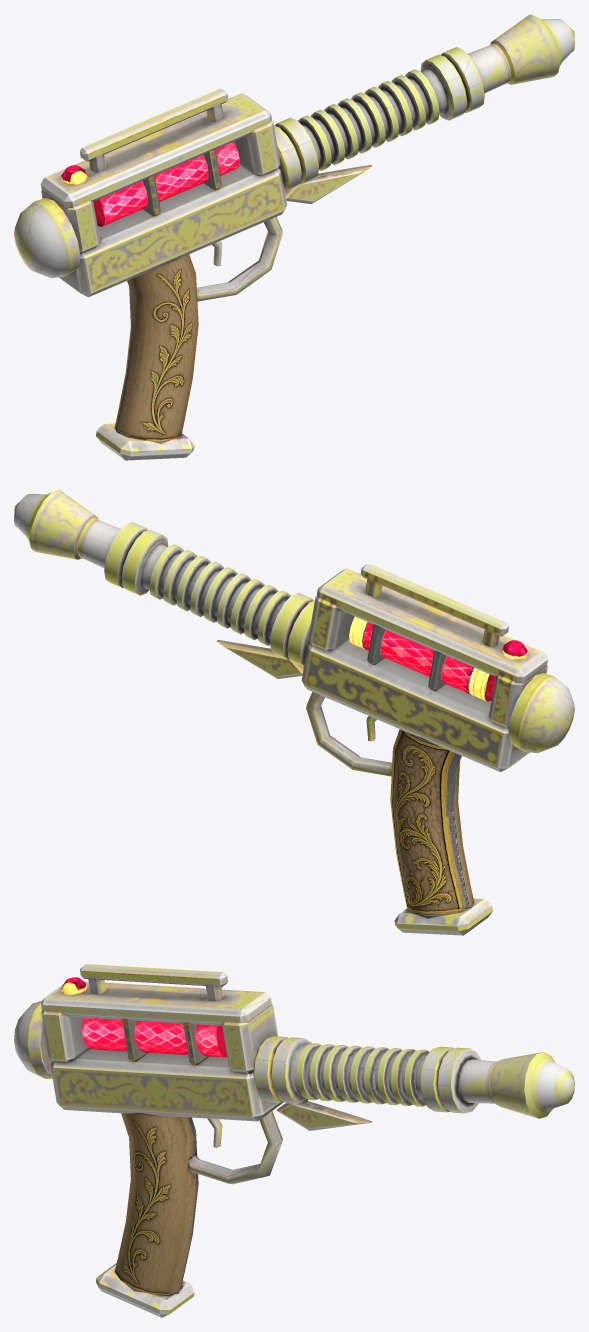
Rendered from w_blaster_t3.glb.
3 renders of one model, top to bottom at view 1: azimuth 30°, elevation 25°; view 2: azimuth 150°, elevation 25°; view 3: azimuth 330°, elevation 25°, orthographic.
Visible parts, largest first — view 1: w_blaster; view 2: w_blaster; view 3: w_blaster.
Boxes of the visible parts, bbox=[...] form: w_blaster: bbox=[14, 14, 574, 460]; w_blaster: bbox=[14, 489, 574, 935]; w_blaster: bbox=[14, 964, 574, 1317].
Size of the model in its own units: 25.08 by 15.03 by 3.12.
Materials: 1 (1 with a texture image).
